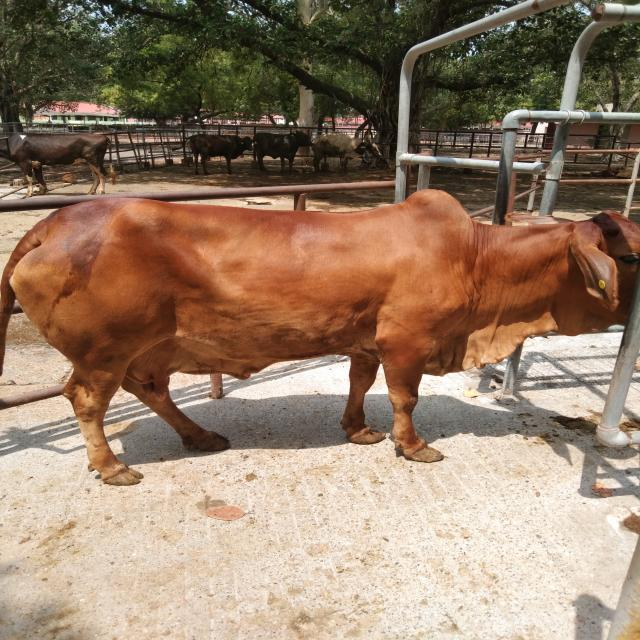Hoof: (194, 431, 230, 452), (102, 468, 143, 486), (404, 445, 444, 462), (346, 427, 385, 444)
